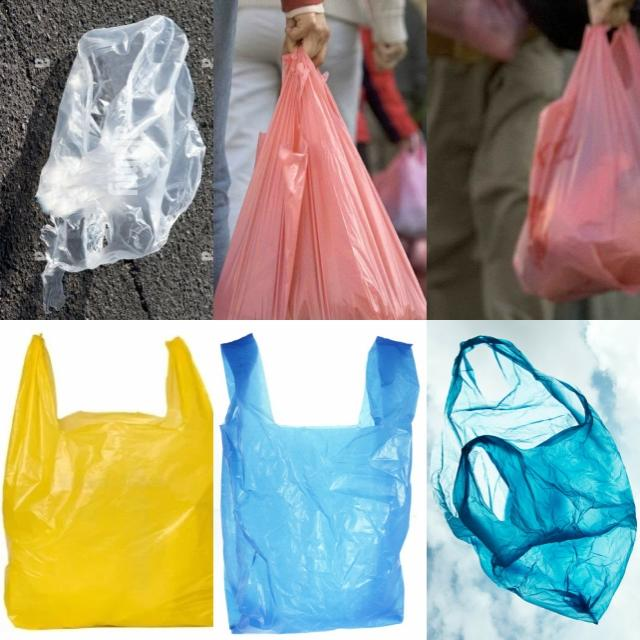Single-layer Plastic: (2, 337, 212, 629), (430, 336, 638, 623), (221, 335, 419, 633), (214, 49, 426, 320), (36, 15, 205, 312), (514, 24, 640, 302)
